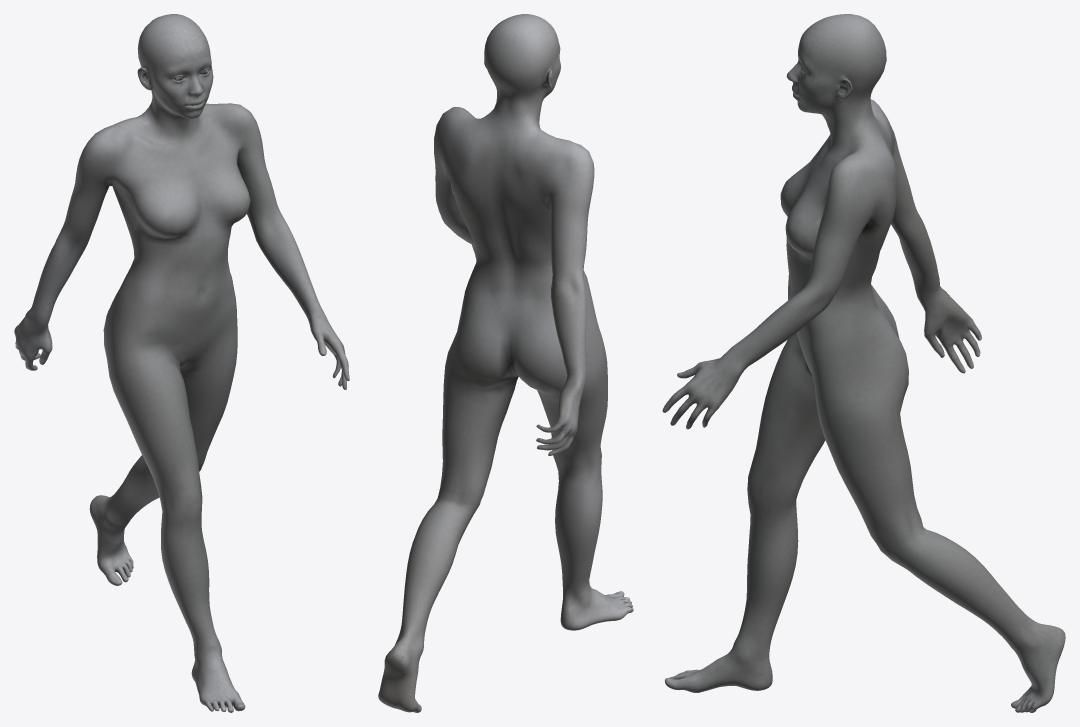
The model's file is female_locomotion.glb.
3 renders of one model, left to right at view 1: azimuth 30°, elevation 25°; view 2: azimuth 150°, elevation 25°; view 3: azimuth 270°, elevation 25°, orthographic. The views are drawn at different scales.
Visible parts, largest first — view 1: female_locomotion; view 2: female_locomotion; view 3: female_locomotion.
Boxes of the visible parts, <box> form: female_locomotion: <box>14,14,349,712</box>; female_locomotion: <box>378,14,633,712</box>; female_locomotion: <box>662,14,1065,712</box>.
Size of the model in its own units: 0.5528 by 1.6 by 0.8598.
Materials: 1 (1 with a texture image).
